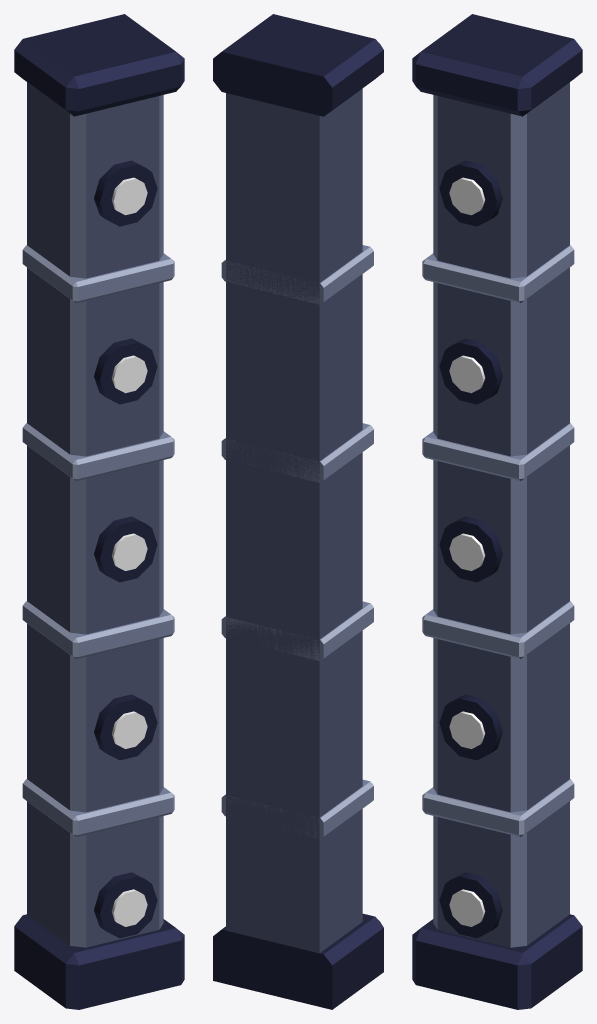
The model's file is LaserEmitter.fbx.
3 renders of one model, left to right at view 1: azimuth 30°, elevation 25°; view 2: azimuth 150°, elevation 25°; view 3: azimuth 330°, elevation 25°, orthographic.
Parts seen in each view (by area): view 1: LaserEmitter, LaserEmitter_Lens; view 2: LaserEmitter; view 3: LaserEmitter, LaserEmitter_Lens.
Boxes of the visible parts, x1=… form: LaserEmitter: x1=14, y1=14, x2=184, y2=1009; LaserEmitter_Lens: x1=111, y1=177, x2=147, y2=926; LaserEmitter: x1=213, y1=14, x2=383, y2=1009; LaserEmitter: x1=412, y1=14, x2=582, y2=1009; LaserEmitter_Lens: x1=449, y1=177, x2=485, y2=926.
Bounding box in the file's own units: 1.4 × 10.45 × 1.16.
1 material, 1 textured.
